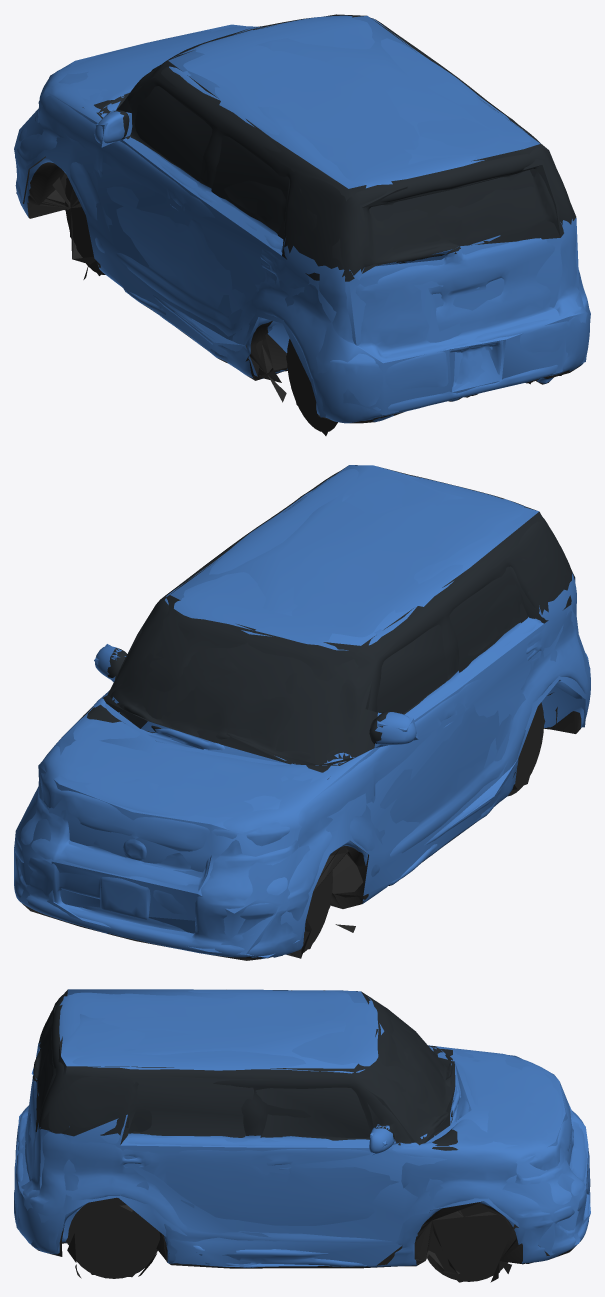
File: scion-xb.glb
3 renders of one model, top to bottom at view 1: azimuth 30°, elevation 25°; view 2: azimuth 150°, elevation 25°; view 3: azimuth 270°, elevation 25°, orthographic. The views are drawn at different scales.
Parts seen in each view (by area): view 1: body, far; view 2: body, far; view 3: body, far.
Part boxes in pixels (x1=…): body: x1=15, y1=15, x2=590, y2=432; far: x1=14, y1=14, x2=590, y2=435; body: x1=14, y1=469, x2=590, y2=960; far: x1=14, y1=465, x2=590, y2=957; body: x1=14, y1=989, x2=590, y2=1281; far: x1=14, y1=989, x2=590, y2=1282.
Size of the model in its own units: 2.22 by 1.76 by 4.29.
